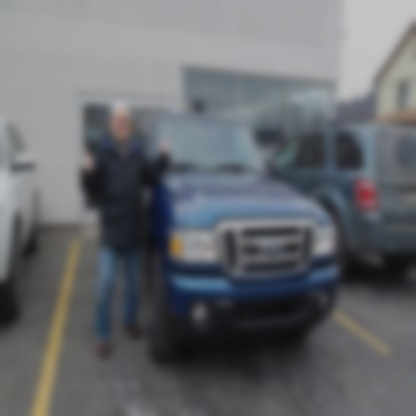Vehicle: (134, 107, 341, 362)
